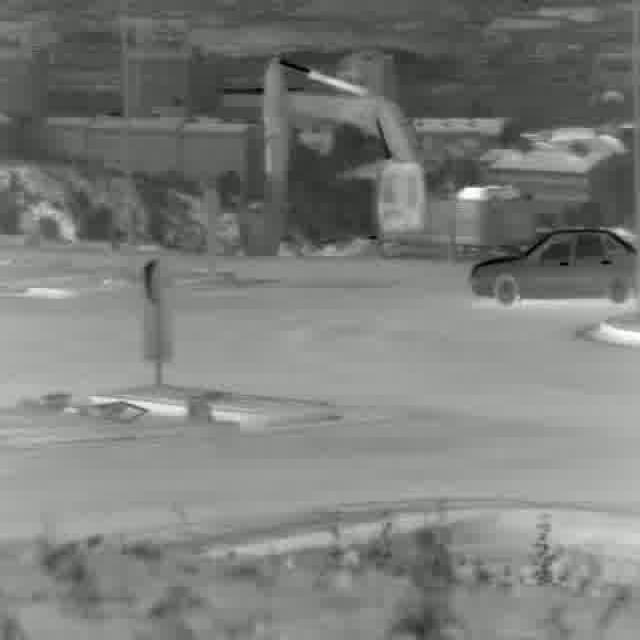Car: (468, 227, 638, 305)
